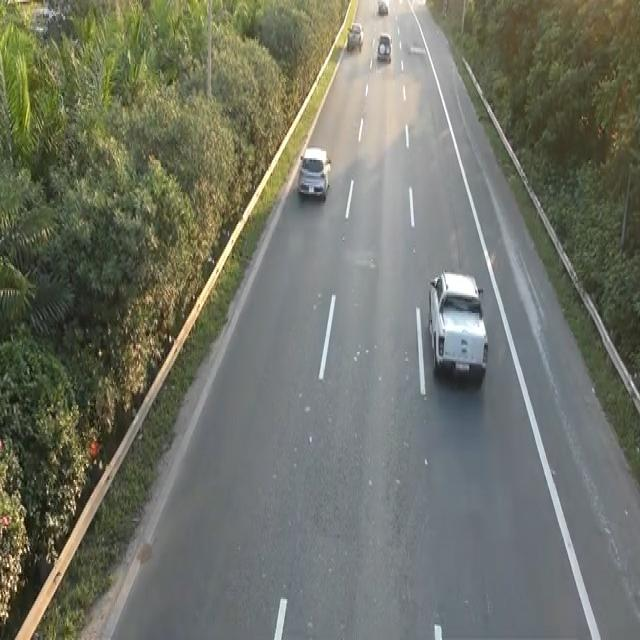bus: (296, 142, 331, 201)
car: (425, 265, 492, 389), (345, 19, 364, 52), (375, 32, 392, 62)
